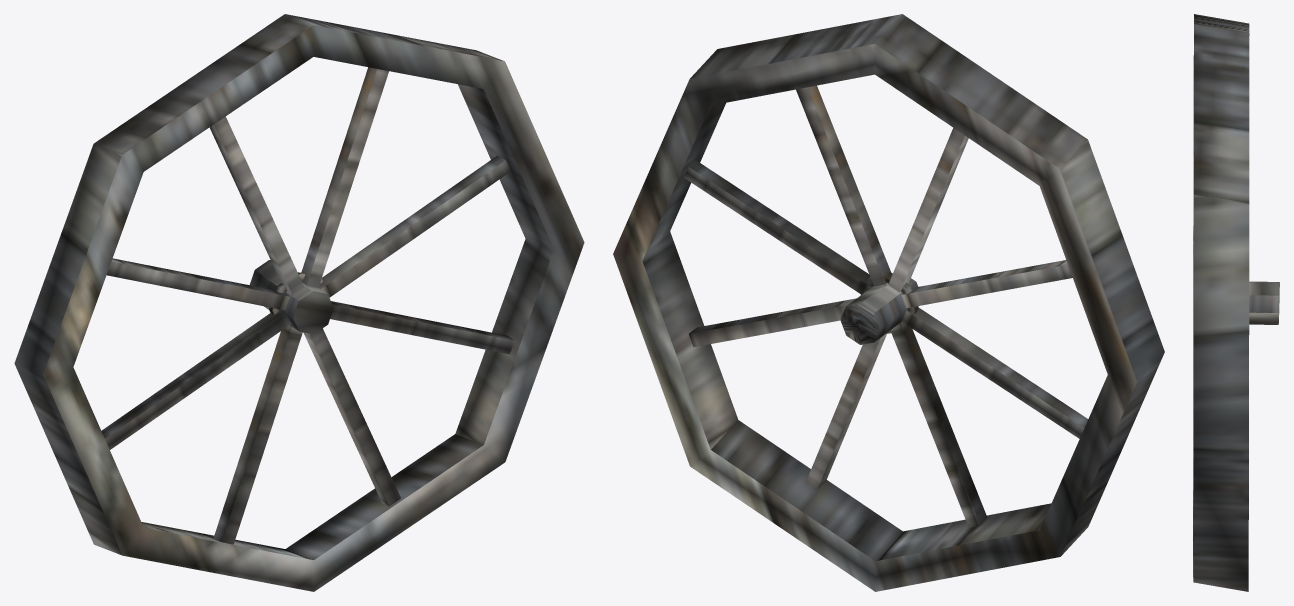
File: Roda.fbx
The picture shows the model from 3 angles, left to right: view 1: azimuth 30°, elevation 25°; view 2: azimuth 150°, elevation 25°; view 3: azimuth 270°, elevation 25°; orthographic projection. The views are drawn at different scales.
Parts seen in each view (by area): view 1: Roda; view 2: Roda; view 3: Roda.
Boxes of the visible parts, bbox=[...] form: Roda: bbox=[14, 14, 584, 591]; Roda: bbox=[613, 14, 1164, 591]; Roda: bbox=[1193, 14, 1279, 591].
Size of the model in its own units: 595 by 85.34 by 605.
